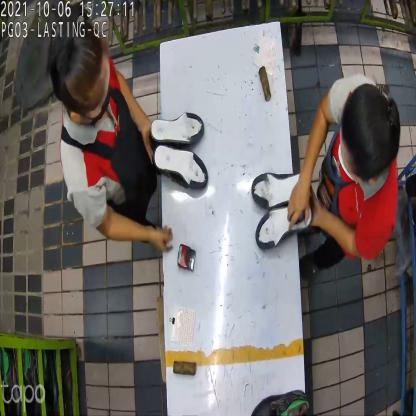shoes: (250, 168, 314, 250), (149, 108, 209, 191)
stamp: (174, 244, 197, 277)
